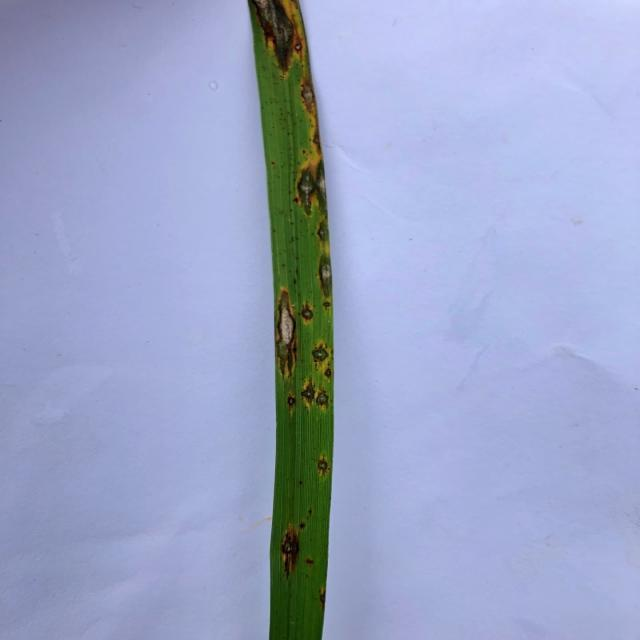Leaf_Blast: (250, 1, 298, 70), (272, 288, 296, 374), (297, 168, 317, 213), (311, 157, 328, 206), (281, 527, 297, 573), (318, 254, 334, 298), (303, 382, 328, 410), (313, 345, 329, 363)
